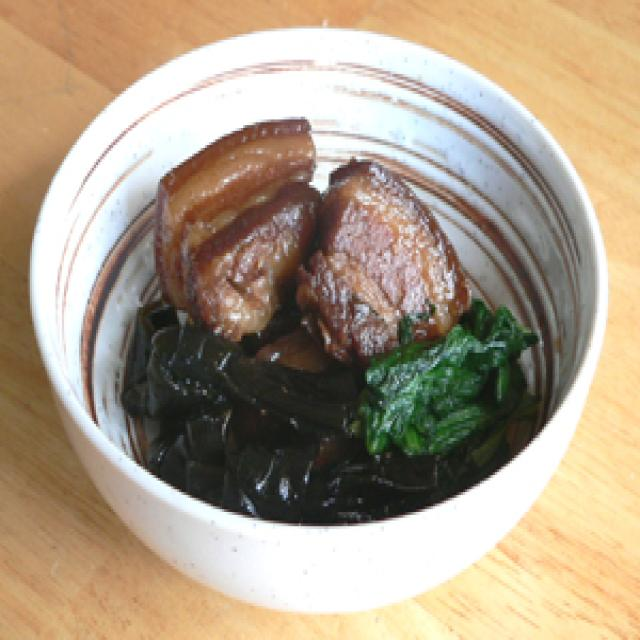猪肉菜式: (15, 20, 610, 609)
